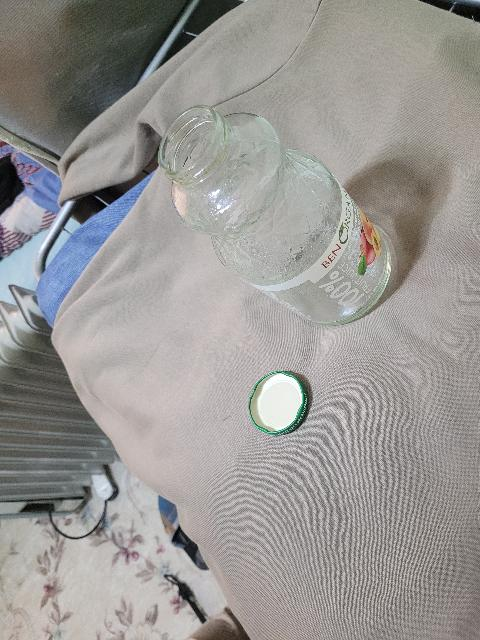Cam: (160, 102, 395, 330)
Metal: (248, 366, 319, 440)
